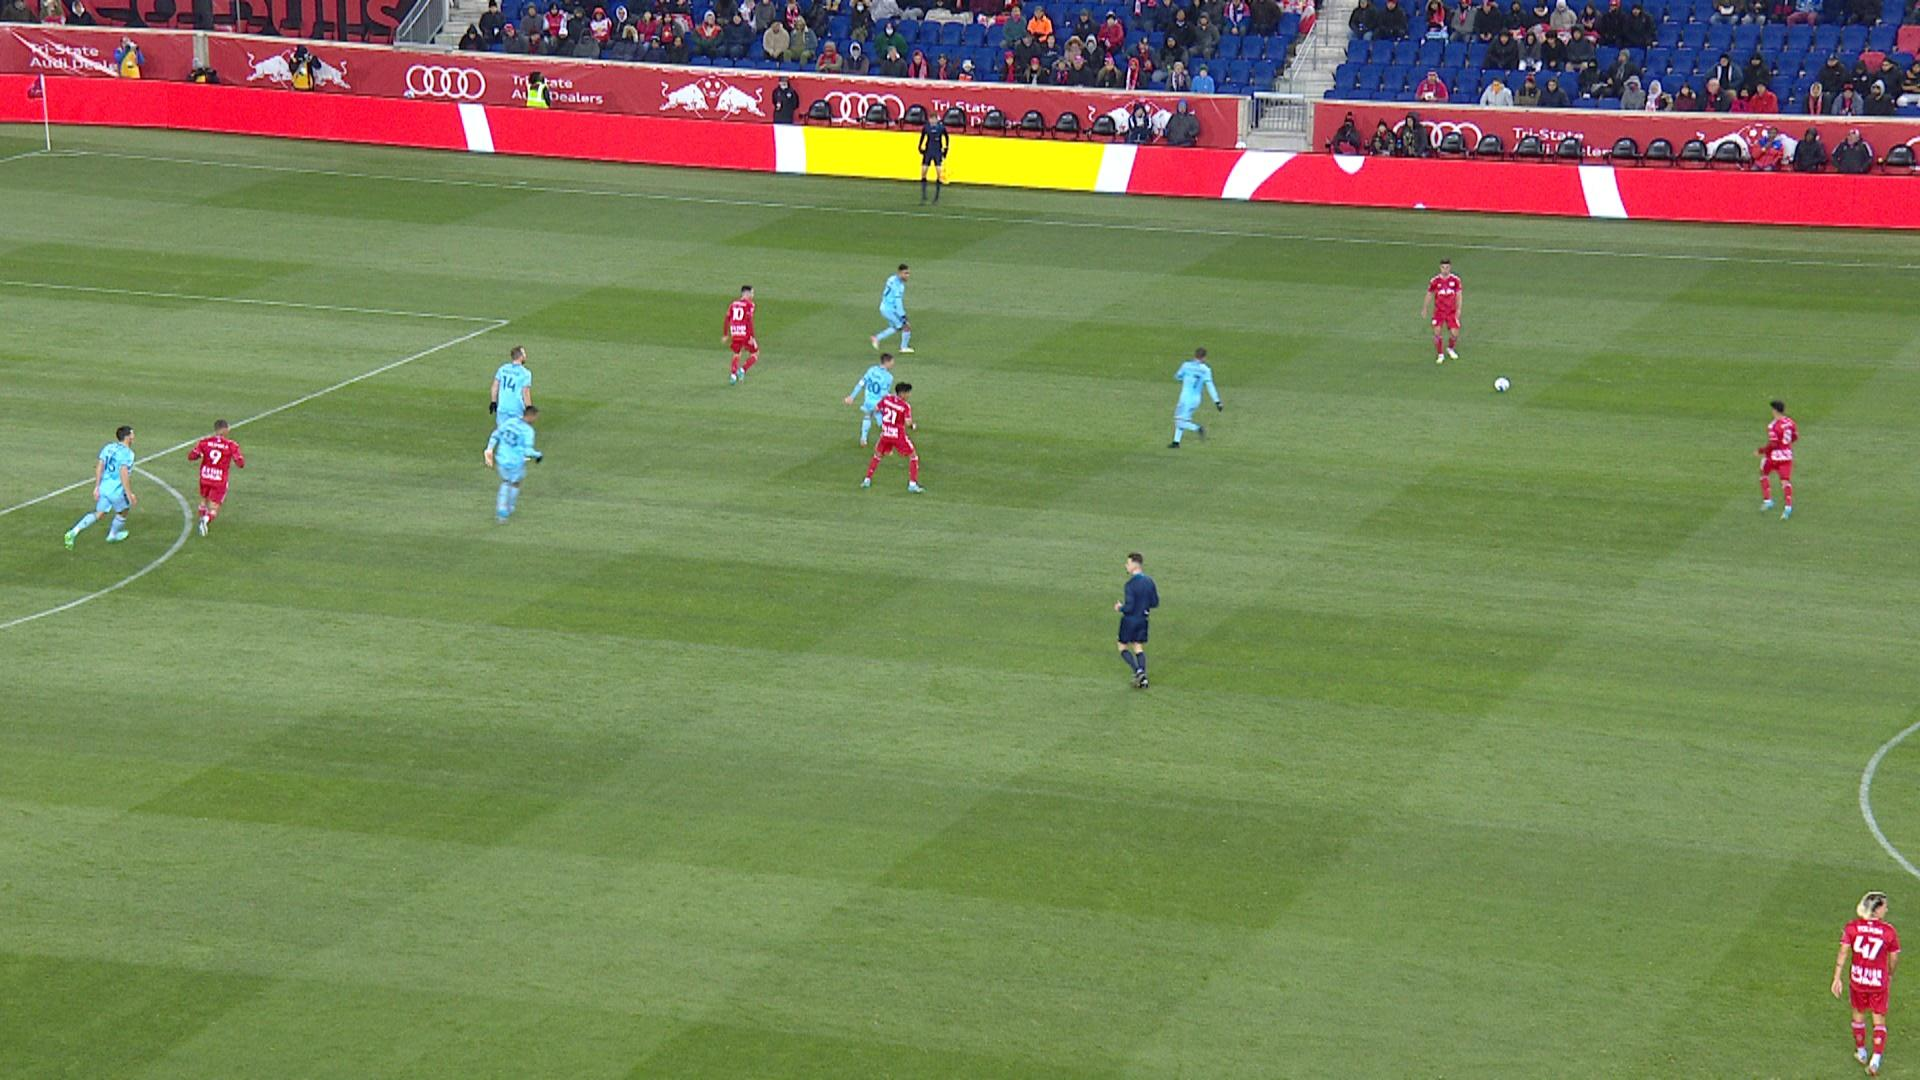football: (1493, 376, 1511, 393)
